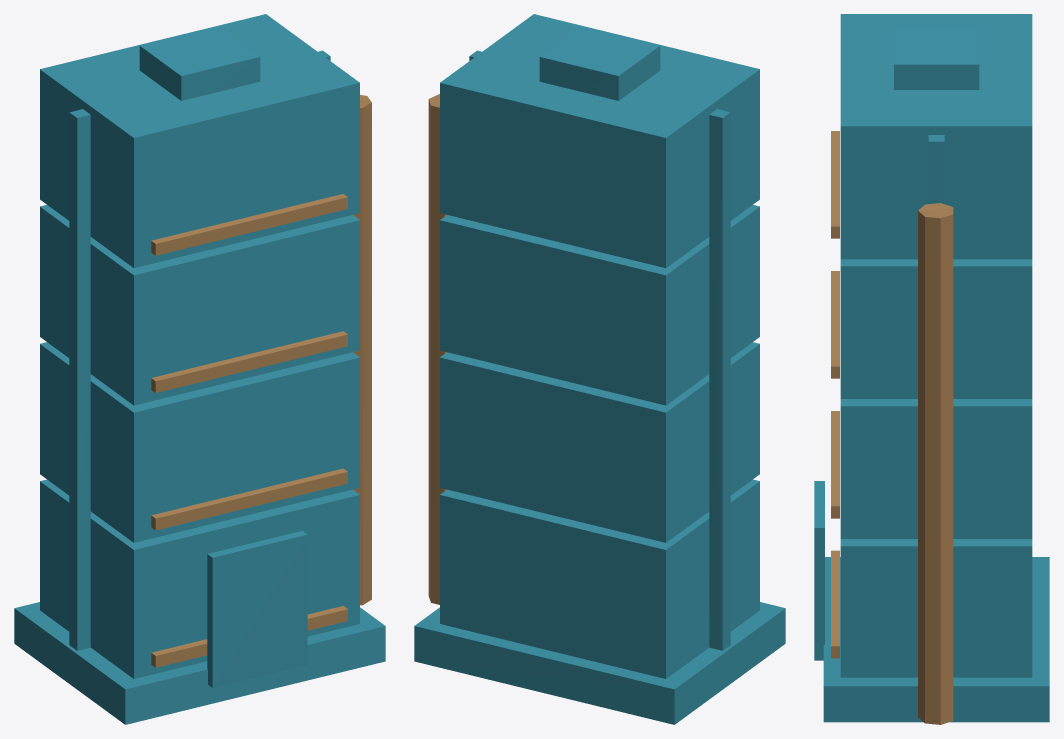
The model's file is vertical-farm.source.glb.
3 views of the same model, side by side, from view 1: azimuth 30°, elevation 25°; view 2: azimuth 150°, elevation 25°; view 3: azimuth 270°, elevation 25° (orthographic).
Parts seen in each view (by area): view 1: vertical-farm-floor-panel-mesh (×4), vertical-farm-base-mesh, vertical-farm-service-door-mesh, vertical-farm-frame-post-mesh, vertical-farm-grow-light-band-mesh (×4), vertical-farm-roof-vent-mesh, vertical-farm-service-riser-mesh; view 2: vertical-farm-floor-panel-mesh (×4), vertical-farm-base-mesh, vertical-farm-frame-post-mesh, vertical-farm-roof-vent-mesh, vertical-farm-service-riser-mesh; view 3: vertical-farm-floor-panel-mesh (×4), vertical-farm-service-riser-mesh, vertical-farm-base-mesh, vertical-farm-roof-vent-mesh, vertical-farm-grow-light-band-mesh (×4), vertical-farm-service-door-mesh, vertical-farm-frame-post-mesh.
Boxes of the visible parts, bbox=[...] form: vertical-farm-floor-panel-mesh (×4): bbox=[40, 14, 359, 678]; vertical-farm-base-mesh: bbox=[14, 602, 385, 724]; vertical-farm-service-door-mesh: bbox=[207, 531, 307, 687]; vertical-farm-frame-post-mesh: bbox=[69, 109, 90, 650]; vertical-farm-grow-light-band-mesh (×4): bbox=[151, 194, 347, 667]; vertical-farm-roof-vent-mesh: bbox=[139, 26, 260, 100]; vertical-farm-service-riser-mesh: bbox=[353, 95, 371, 605]; vertical-farm-floor-panel-mesh (×4): bbox=[440, 14, 759, 678]; vertical-farm-base-mesh: bbox=[414, 602, 785, 724]; vertical-farm-frame-post-mesh: bbox=[709, 109, 730, 650]; vertical-farm-roof-vent-mesh: bbox=[539, 26, 660, 100]; vertical-farm-service-riser-mesh: bbox=[428, 94, 446, 604]; vertical-farm-floor-panel-mesh (×4): bbox=[840, 14, 1032, 677]; vertical-farm-service-riser-mesh: bbox=[918, 203, 953, 724]; vertical-farm-base-mesh: bbox=[823, 557, 1049, 722]; vertical-farm-roof-vent-mesh: bbox=[894, 25, 979, 89]; vertical-farm-grow-light-band-mesh (×4): bbox=[831, 131, 839, 658]; vertical-farm-service-door-mesh: bbox=[814, 481, 824, 660]; vertical-farm-frame-post-mesh: bbox=[928, 135, 944, 203].
Bounding box in the file's own units: 1.32 × 2.54 × 0.885.
